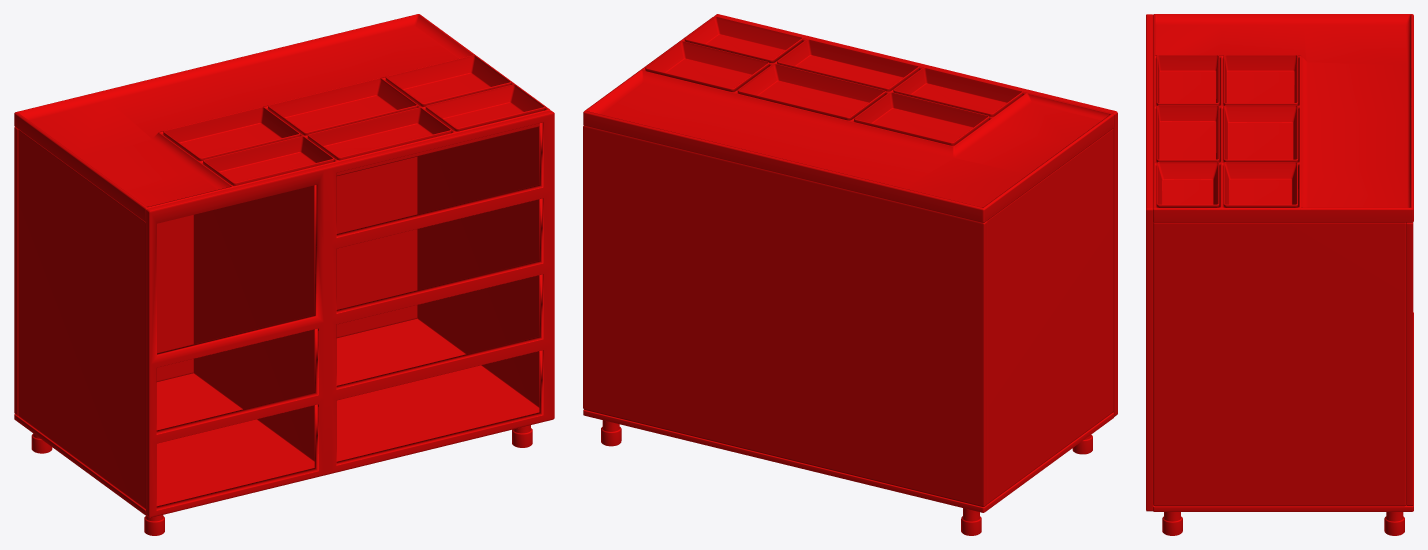
File: Table_2.fbx
The picture shows the model from 3 angles, left to right: view 1: azimuth 30°, elevation 25°; view 2: azimuth 150°, elevation 25°; view 3: azimuth 270°, elevation 25°; orthographic projection.
Visible parts, largest first — view 1: L21:polySurface1178; view 2: L21:polySurface1178; view 3: L21:polySurface1178.
Part boxes in pixels (x1,y1,x2,y2): L21:polySurface1178: (14,14,554,535); L21:polySurface1178: (583,14,1117,535); L21:polySurface1178: (1146,14,1413,535).
Size of the model in its own units: 120 by 95.79 by 69.5.
